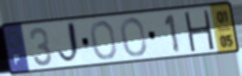1: (163, 13, 181, 54)
3: (28, 25, 53, 67)
H: (182, 9, 216, 52)
J: (57, 19, 84, 67)
O: (119, 16, 149, 59), (89, 19, 119, 62)
